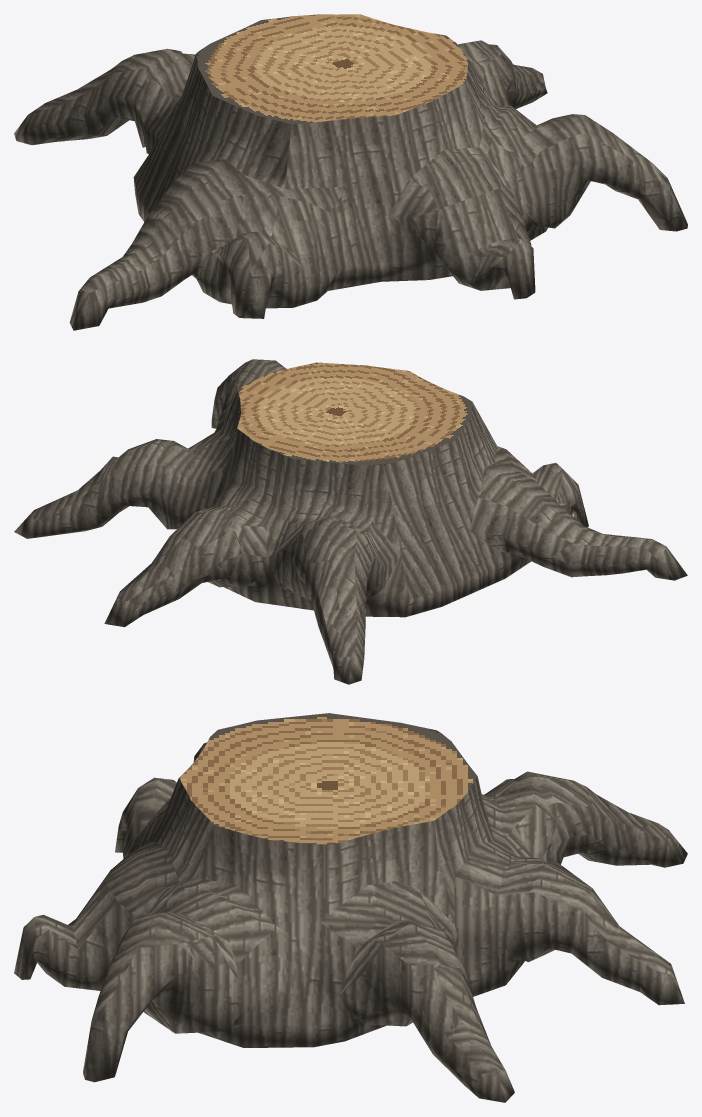
Rendered from environment_elm6_stump_v59.fbx.
3 renders of one model, top to bottom at view 1: azimuth 30°, elevation 25°; view 2: azimuth 150°, elevation 25°; view 3: azimuth 270°, elevation 25°, orthographic. The views are drawn at different scales.
Visible parts, largest first — view 1: environment_elm6_stump_v59; view 2: environment_elm6_stump_v59; view 3: environment_elm6_stump_v59.
Part boxes in pixels (<box>): environment_elm6_stump_v59: <box>14,14,687,330</box>; environment_elm6_stump_v59: <box>14,359,687,684</box>; environment_elm6_stump_v59: <box>14,713,687,1102</box>.
Bounding box in the file's own units: 509 × 117 × 431.
2 materials, 2 textured.
